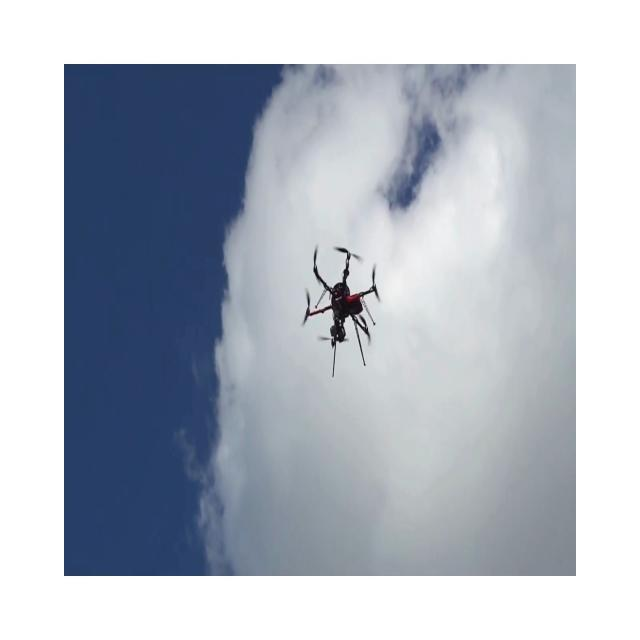drone: (301, 244, 381, 378)
